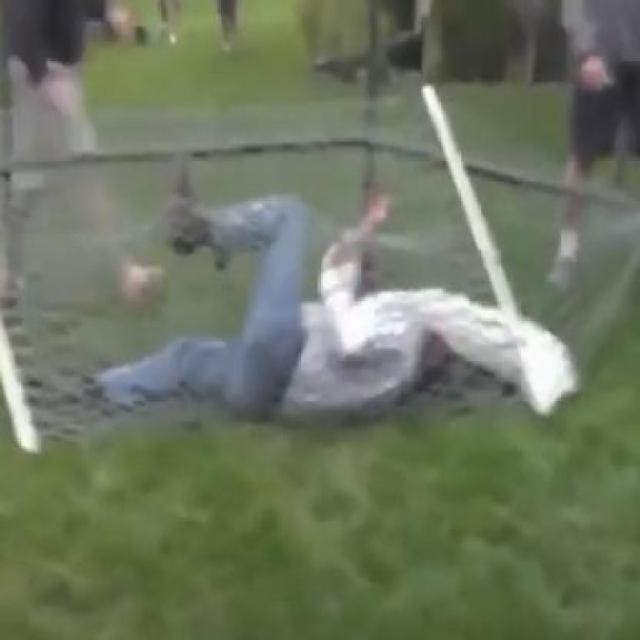fall: (84, 156, 468, 436)
